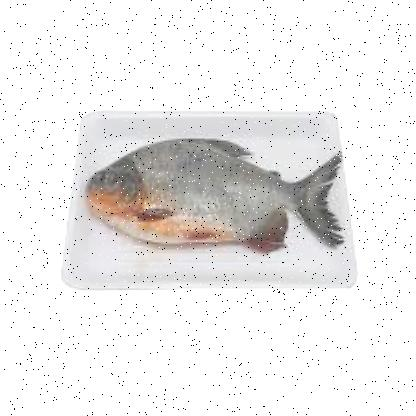ikan-pacu: (83, 137, 344, 257)
